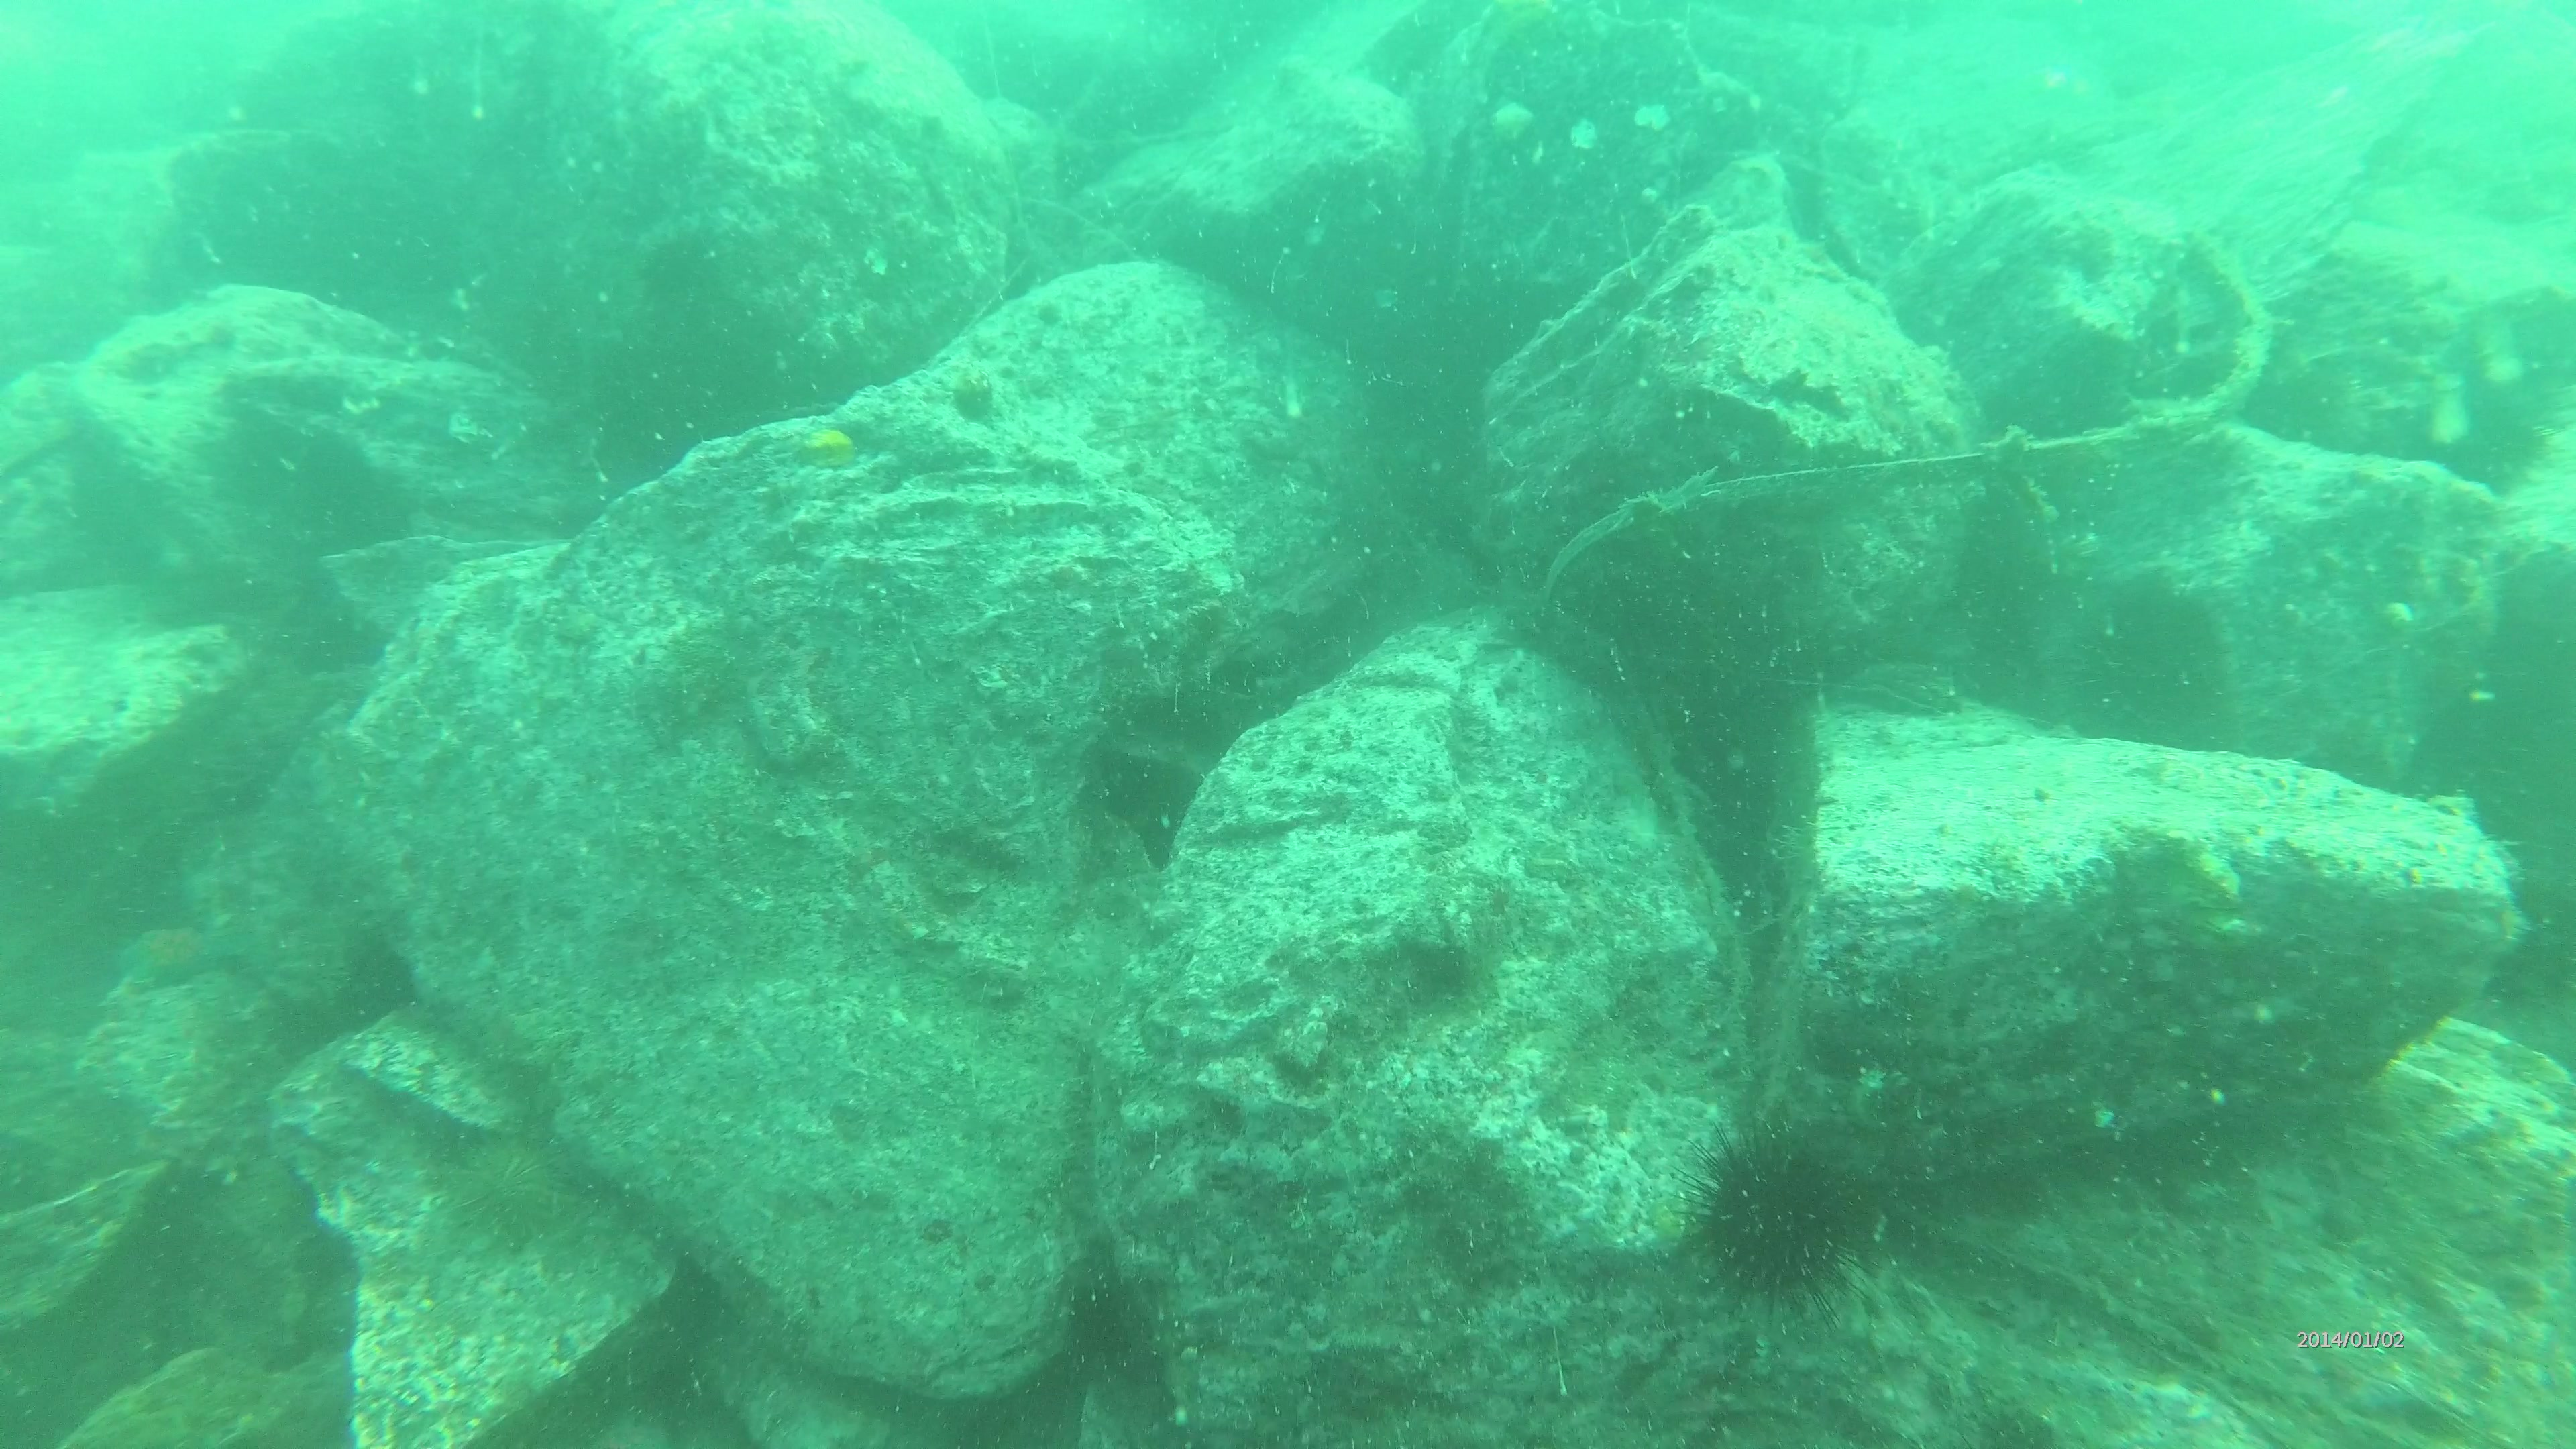echinus: (1691, 1111, 1893, 1315), (432, 1134, 593, 1274)
starfish: (106, 922, 242, 994)
